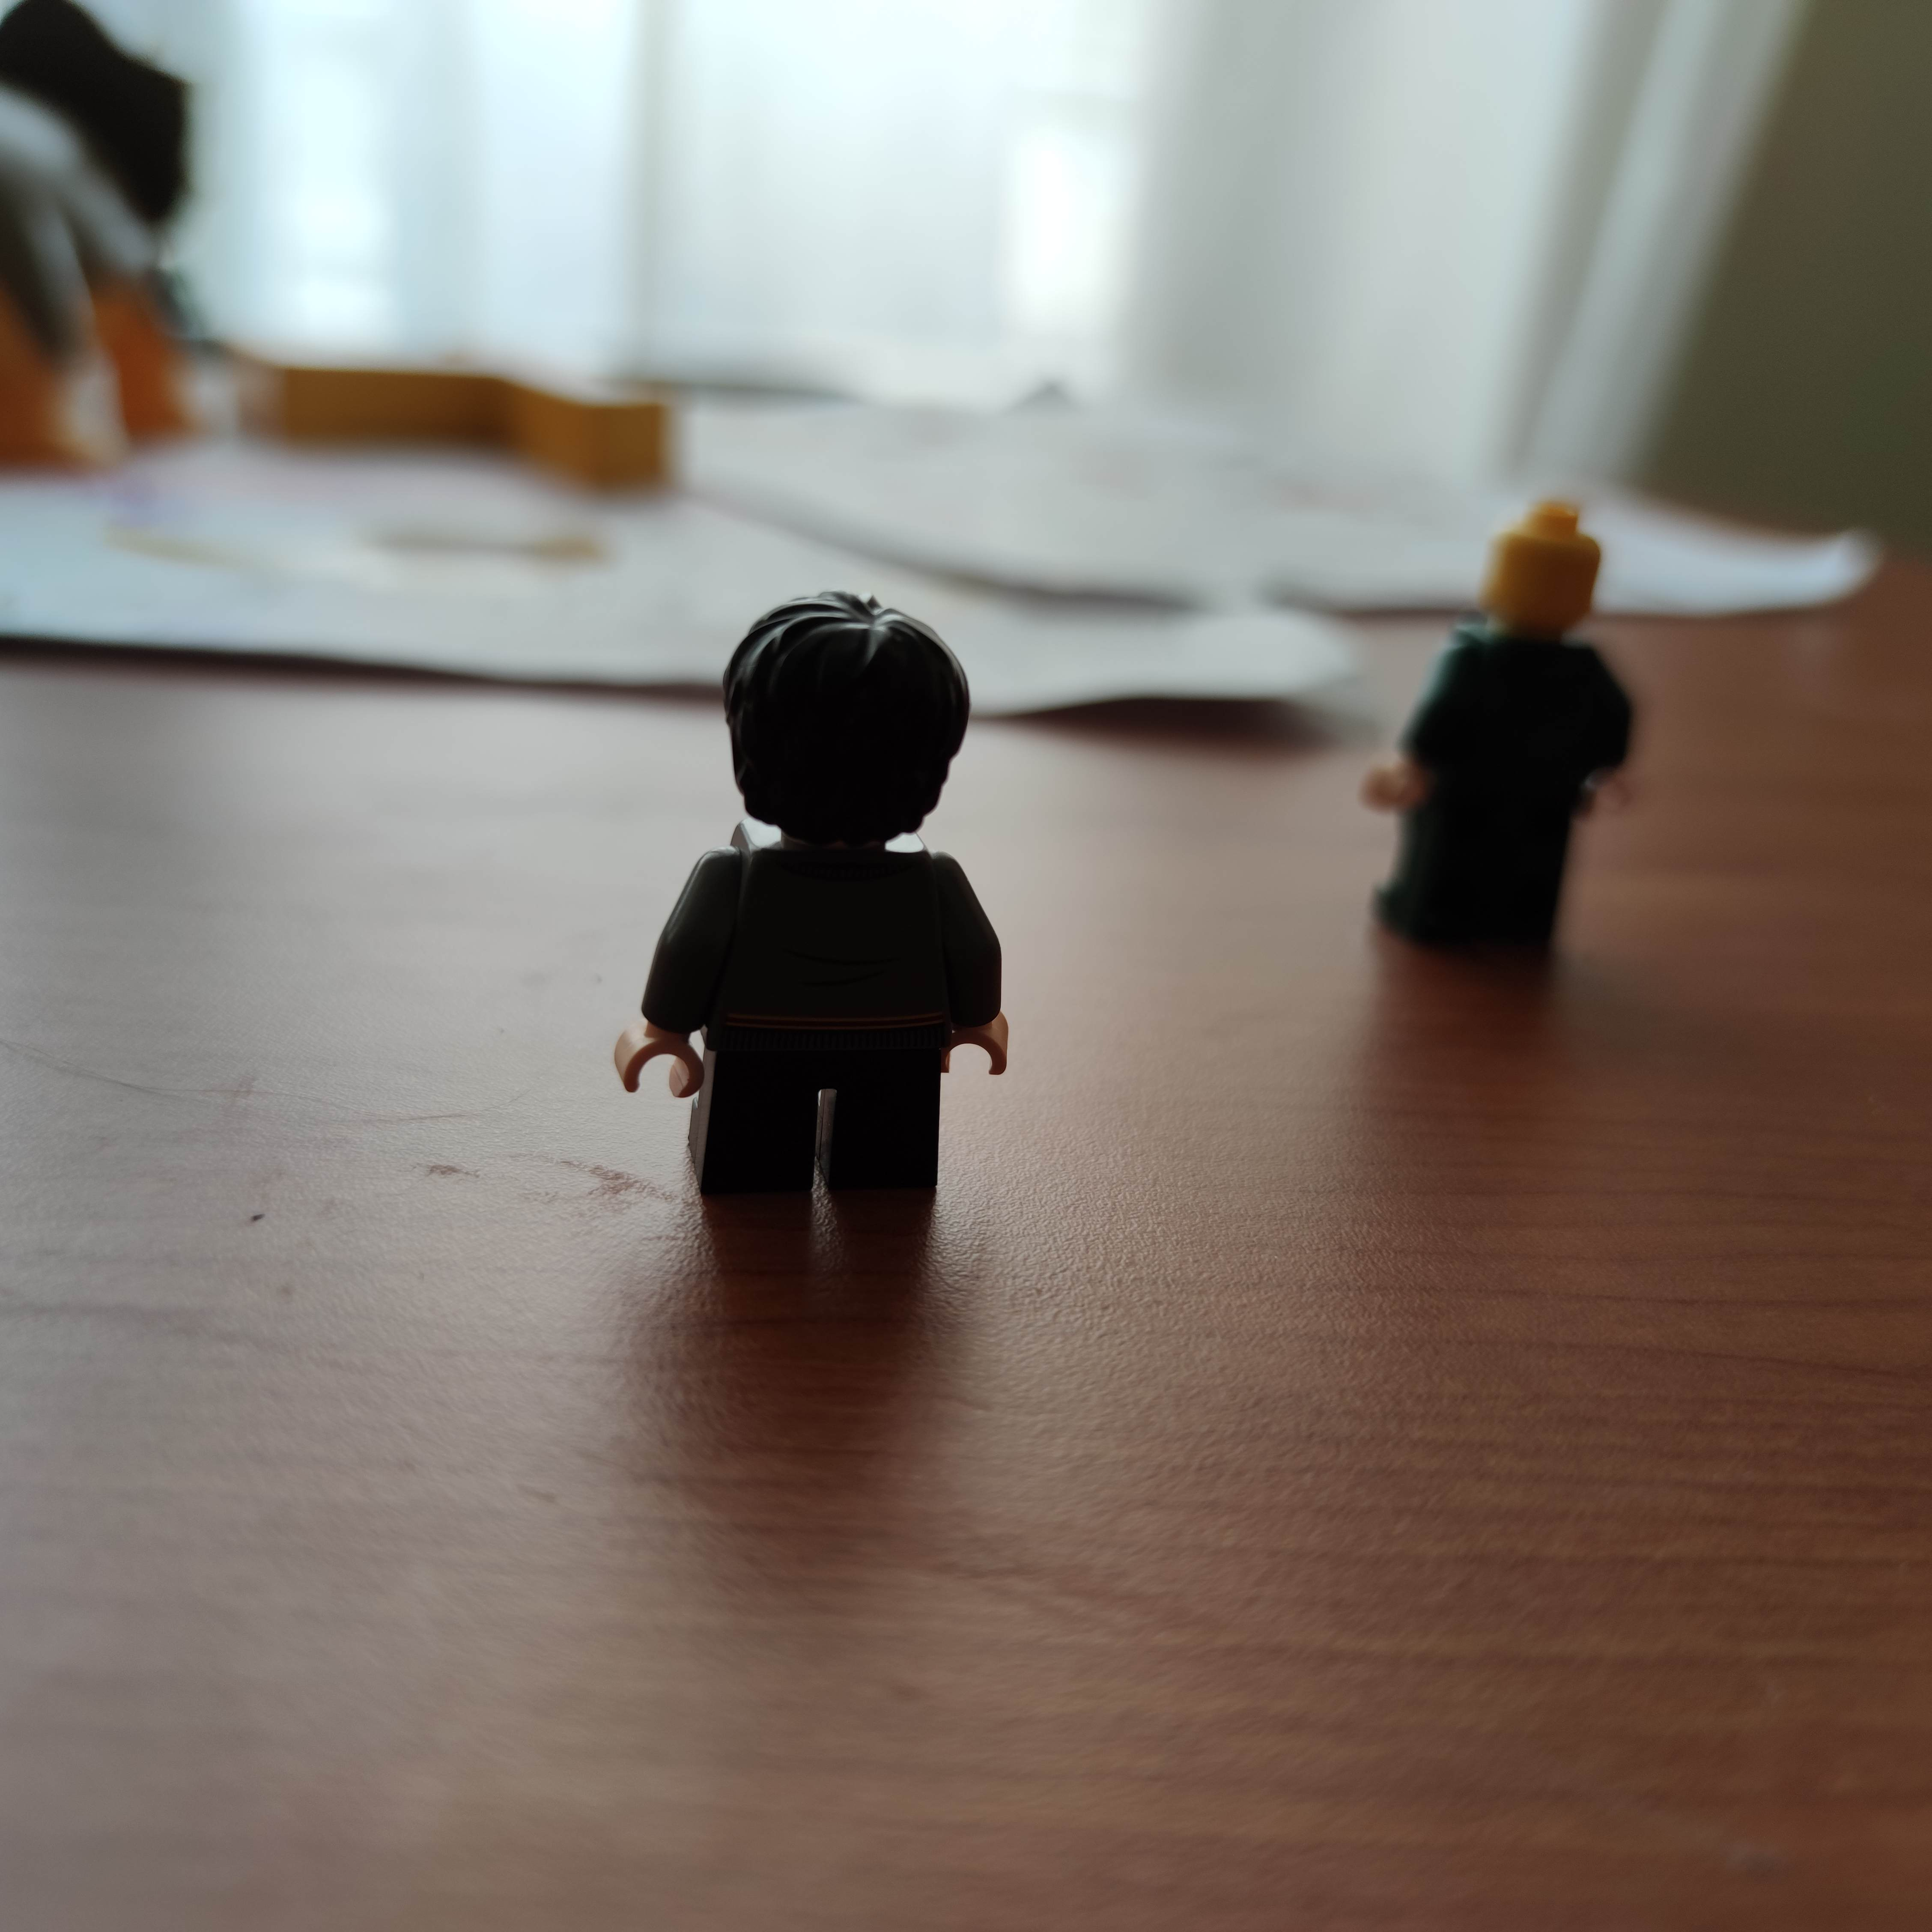lego: (610, 591, 1016, 1226), (1355, 492, 1642, 959)
